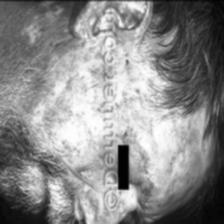Unclassified: (56, 66, 90, 116), (166, 140, 188, 176), (23, 20, 39, 48)
